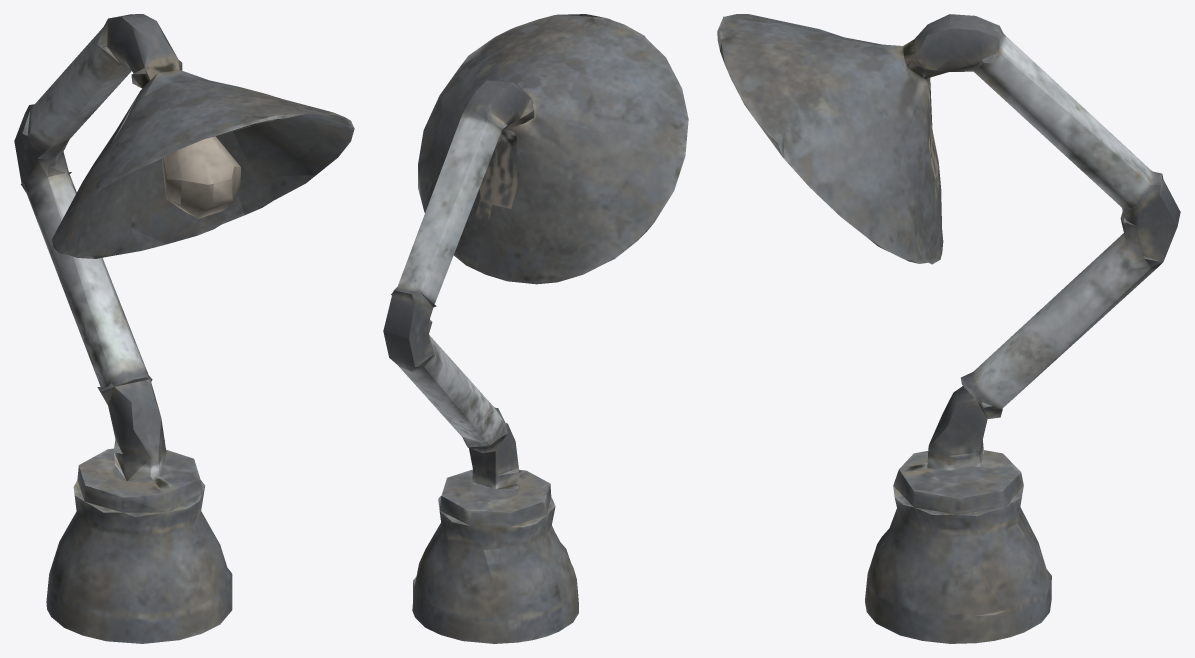
File: lamp_pipe.glb
3 views of the same model, side by side, from view 1: azimuth 30°, elevation 25°; view 2: azimuth 150°, elevation 25°; view 3: azimuth 270°, elevation 25° (orthographic). The views are drawn at different scales.
Parts seen in each view (by area): view 1: mesh; view 2: mesh; view 3: mesh.
Boxes of the visible parts, bbox=[...] form: mesh: bbox=[14, 14, 354, 643]; mesh: bbox=[383, 14, 688, 643]; mesh: bbox=[717, 14, 1180, 643].
Bounding box in the file's own units: 0.182 × 0.3641 × 0.2616.
1 material, 1 textured.
